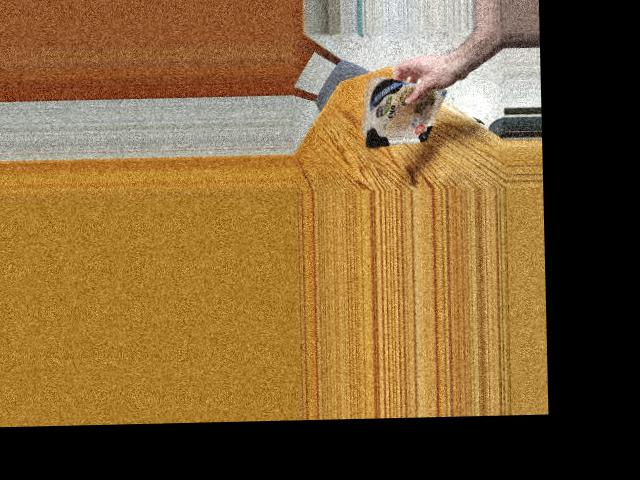cheese: (356, 74, 432, 144)
